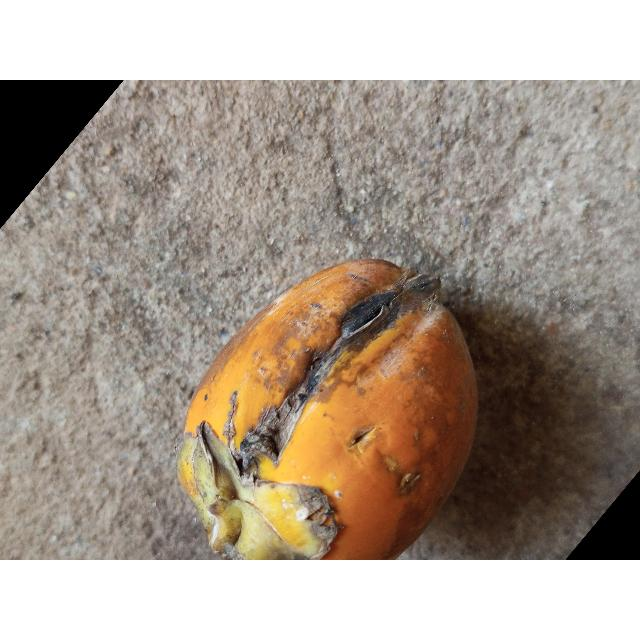damaged: (178, 259, 477, 560)
